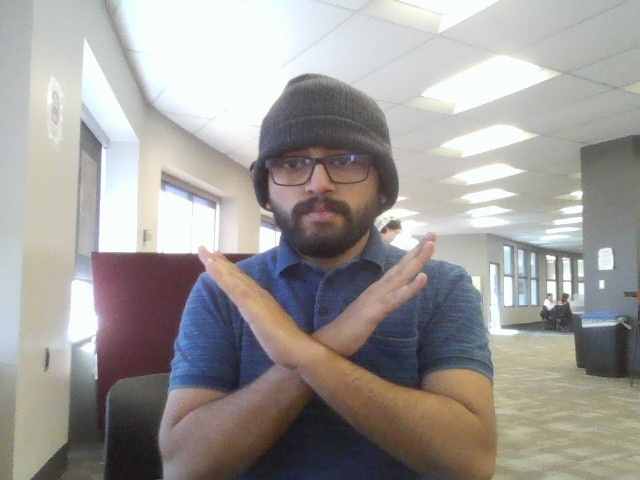start: (185, 217, 459, 422)
